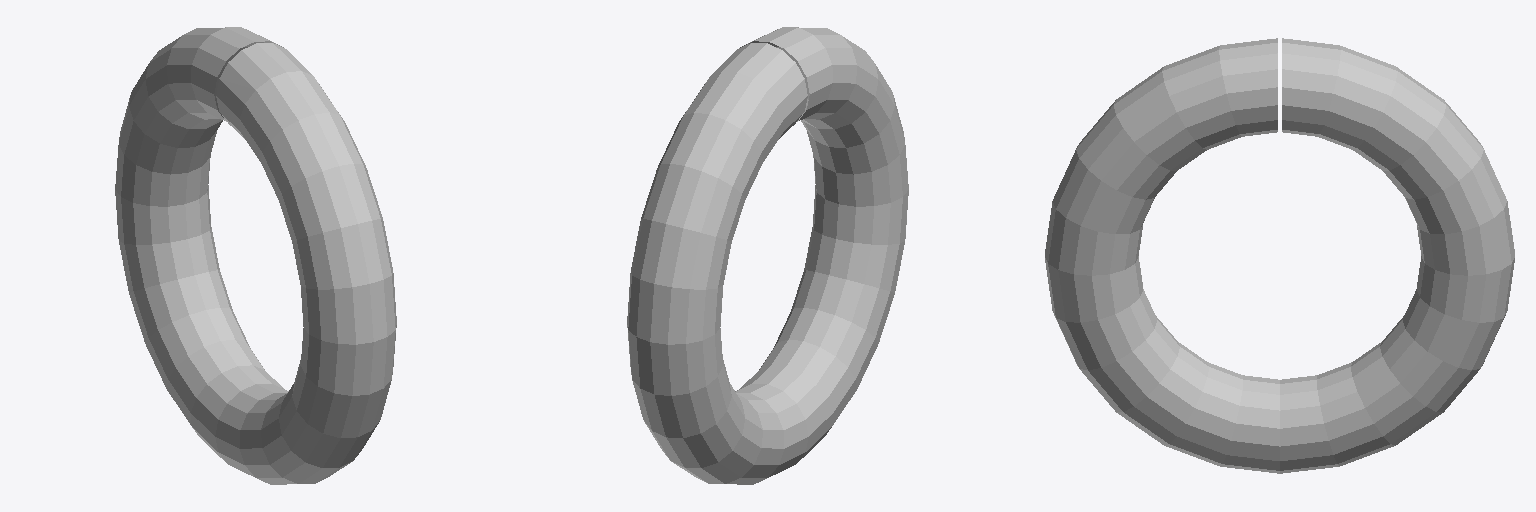
The model's file is taurus.obj.
3 renders of one model, left to right at view 1: azimuth 30°, elevation 25°; view 2: azimuth 150°, elevation 25°; view 3: azimuth 270°, elevation 25°, orthographic.
Parts seen in each view (by area): view 1: Torus.014; view 2: Torus.014; view 3: Torus.014.
Part boxes in pixels (x1,y1,x2,y2): Torus.014: (115,27,396,484); Torus.014: (627,27,908,484); Torus.014: (1045,38,1514,473).
Size of the model in its own units: 0.5 by 2.5 by 2.5.